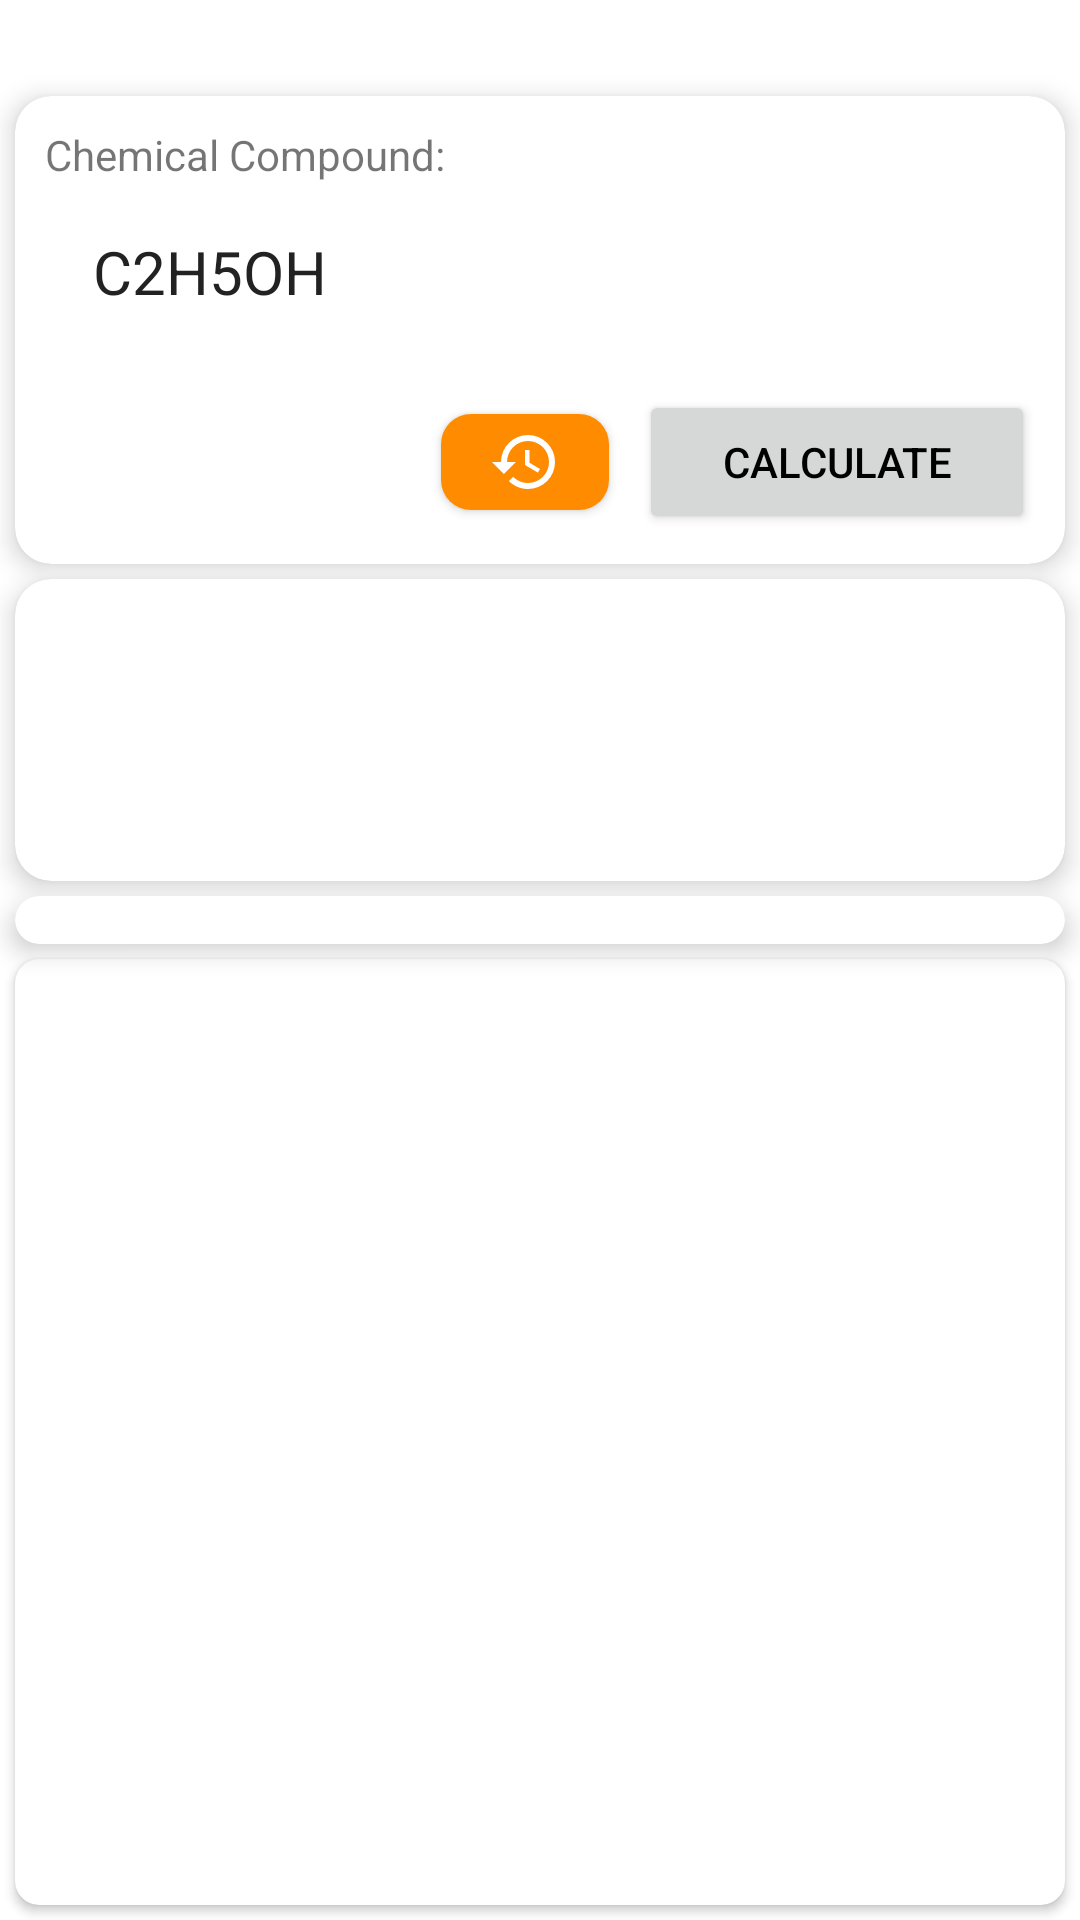

Named icons in this screenshot (1080px x 1920px) and their bounding boxes, bbox=(x1, y1, x2, y2):
History: bbox=(441, 414, 609, 511)
